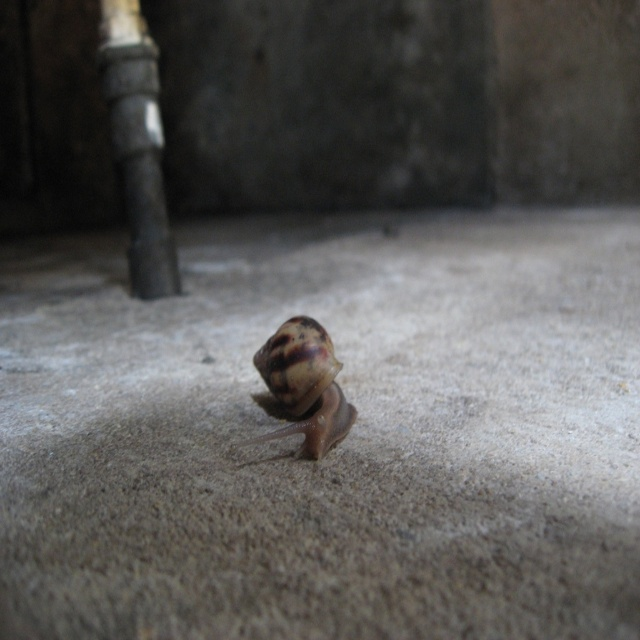Snail: (244, 309, 362, 458)
